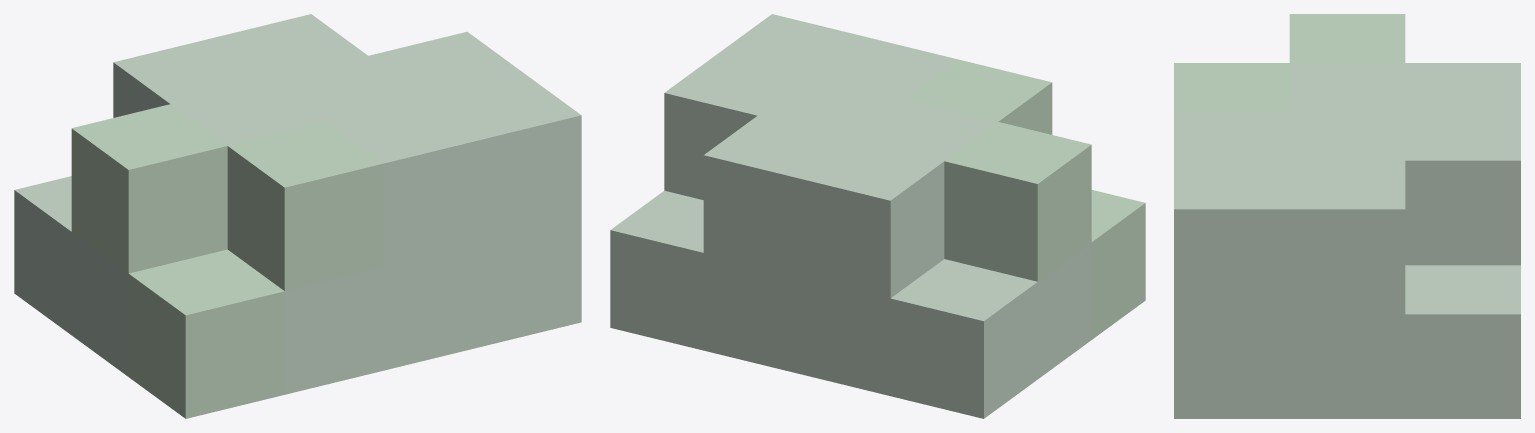
The model's file is IronIngot.fbx.
The picture shows the model from 3 angles, left to right: view 1: azimuth 30°, elevation 25°; view 2: azimuth 150°, elevation 25°; view 3: azimuth 270°, elevation 25°; orthographic projection. The views are drawn at different scales.
Parts seen in each view (by area): view 1: iron_ingot; view 2: iron_ingot; view 3: iron_ingot.
Part boxes in pixels (x1,y1,x2,y2): iron_ingot: (14, 14, 581, 418); iron_ingot: (610, 14, 1145, 418); iron_ingot: (1174, 14, 1520, 418).
Bounding box in the file's own units: 40 × 20 × 30.
